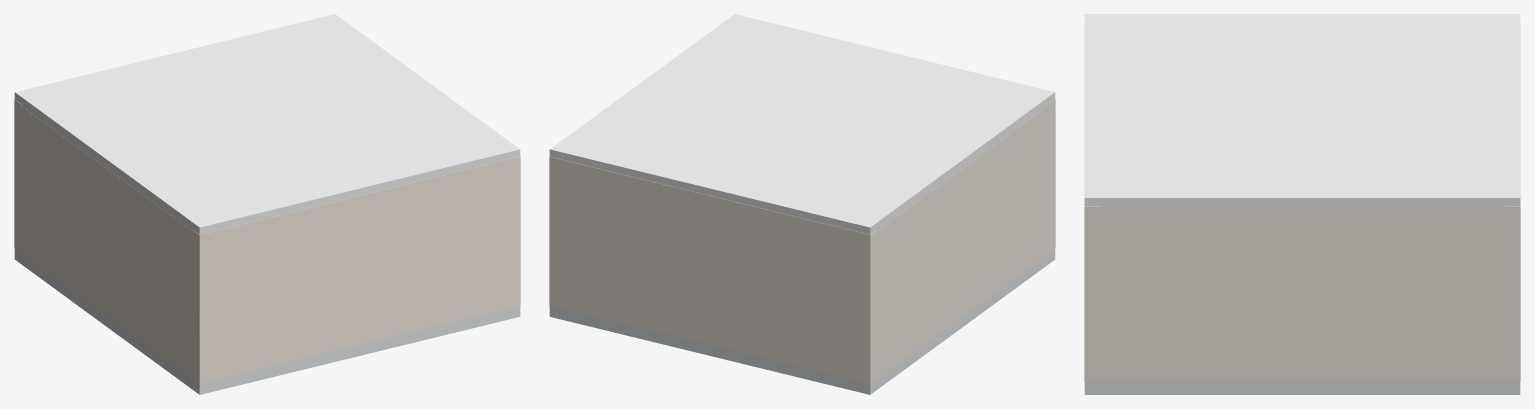
File: CleanACat_Area_WashRoom.fbx
The picture shows the model from 3 angles, left to right: view 1: azimuth 30°, elevation 25°; view 2: azimuth 150°, elevation 25°; view 3: azimuth 270°, elevation 25°; orthographic projection. The views are drawn at different scales.
Visible parts, largest first — view 1: CleanACat_Area_WashRoom; view 2: CleanACat_Area_WashRoom; view 3: CleanACat_Area_WashRoom.
Boxes of the visible parts, x1=… form: CleanACat_Area_WashRoom: x1=14, y1=14, x2=520, y2=394; CleanACat_Area_WashRoom: x1=549, y1=14, x2=1055, y2=394; CleanACat_Area_WashRoom: x1=1084, y1=14, x2=1520, y2=394.
Size of the model in its own units: 28 by 13.95 by 28.
Materials: 1 (1 with a texture image).
